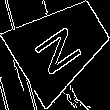N_NE: (31, 15, 90, 76)
